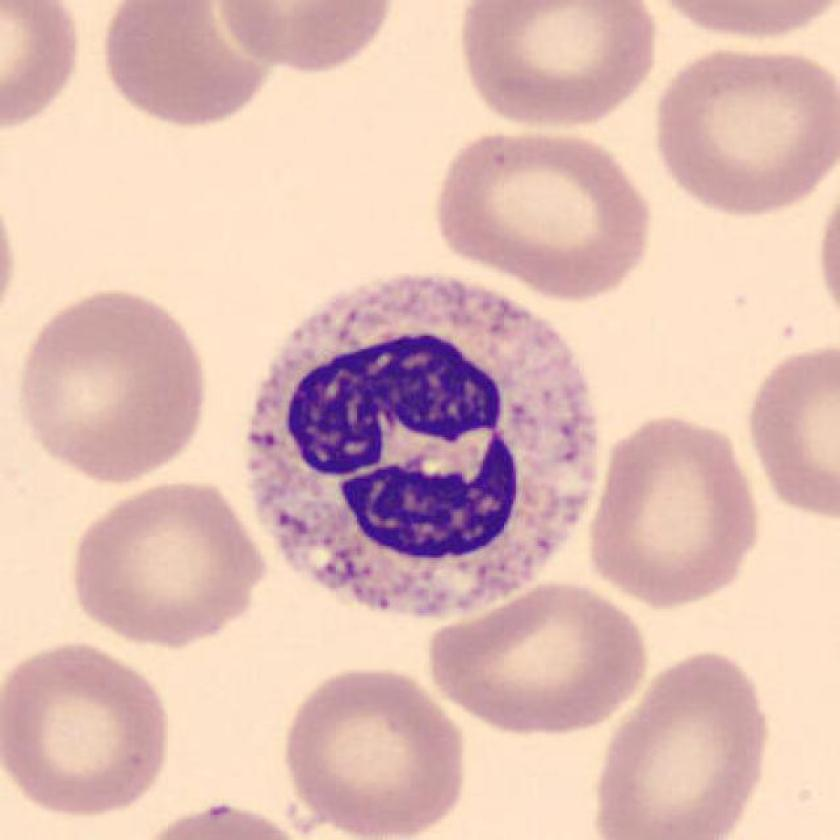neutrophil: (249, 271, 598, 622)
